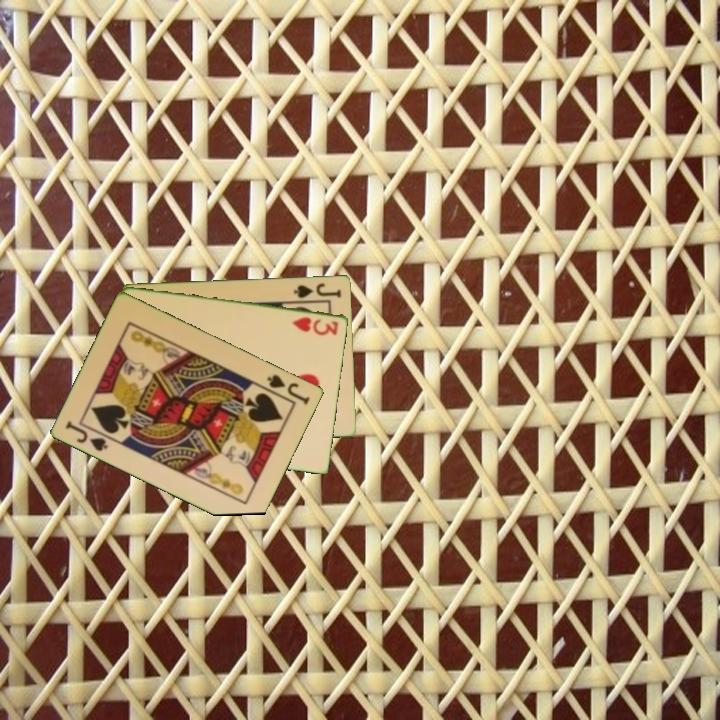3h: (289, 313, 341, 338)
Js: (62, 417, 111, 454), (264, 371, 313, 407), (290, 279, 344, 301)
